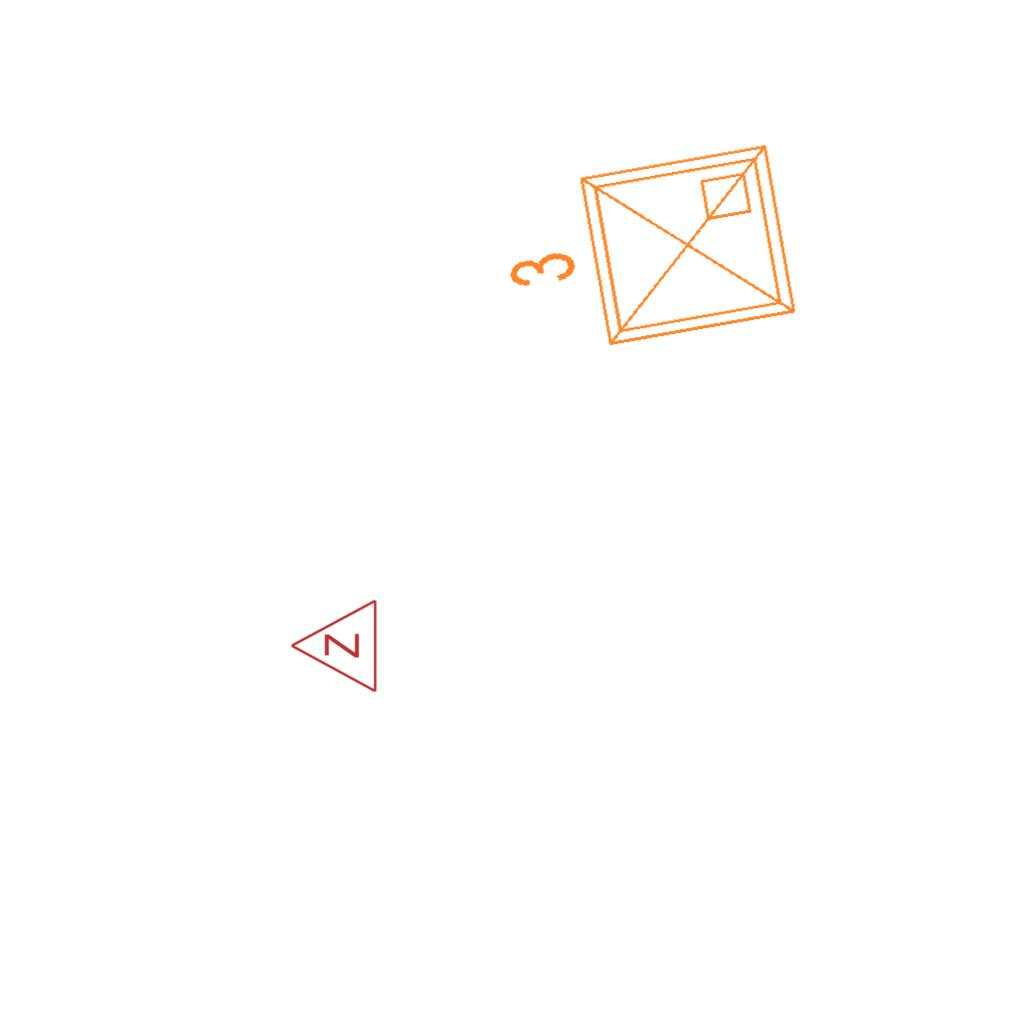Einbaudownlights_LED_Konferenzraeume: (482, 127, 814, 385)
Zimmersignalleuchte: (284, 598, 384, 696)
